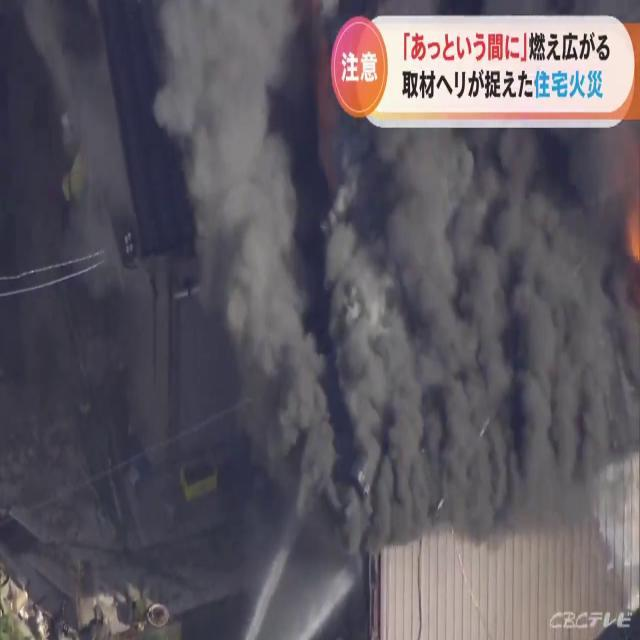Smoke: (151, 1, 640, 519)
